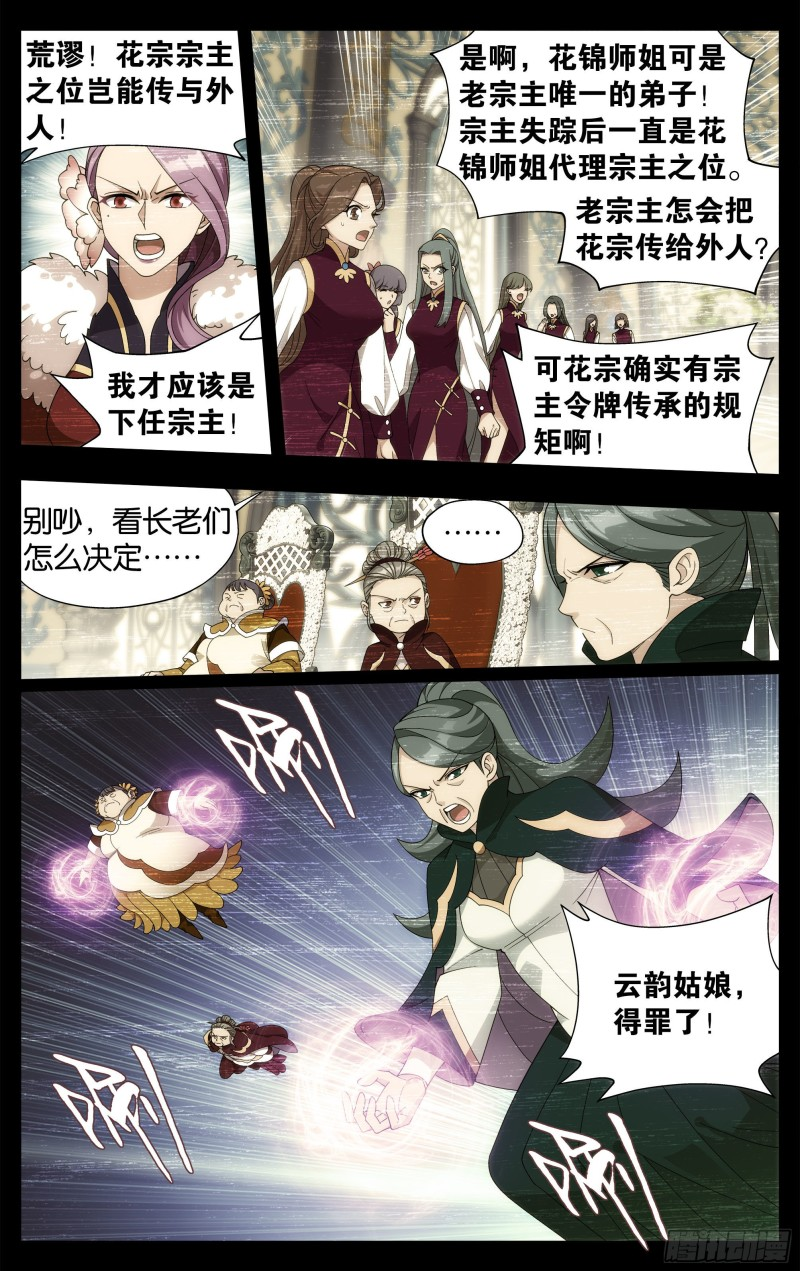boxBomb: (429, 26, 786, 188), (552, 892, 789, 1105), (498, 320, 771, 479), (12, 20, 258, 167), (48, 311, 282, 461), (549, 188, 786, 293)
boxEllipse: (12, 473, 261, 613), (411, 500, 528, 568)
minBox: (6, 661, 783, 1249), (243, 17, 786, 497), (3, 461, 792, 682), (9, 17, 282, 464)
